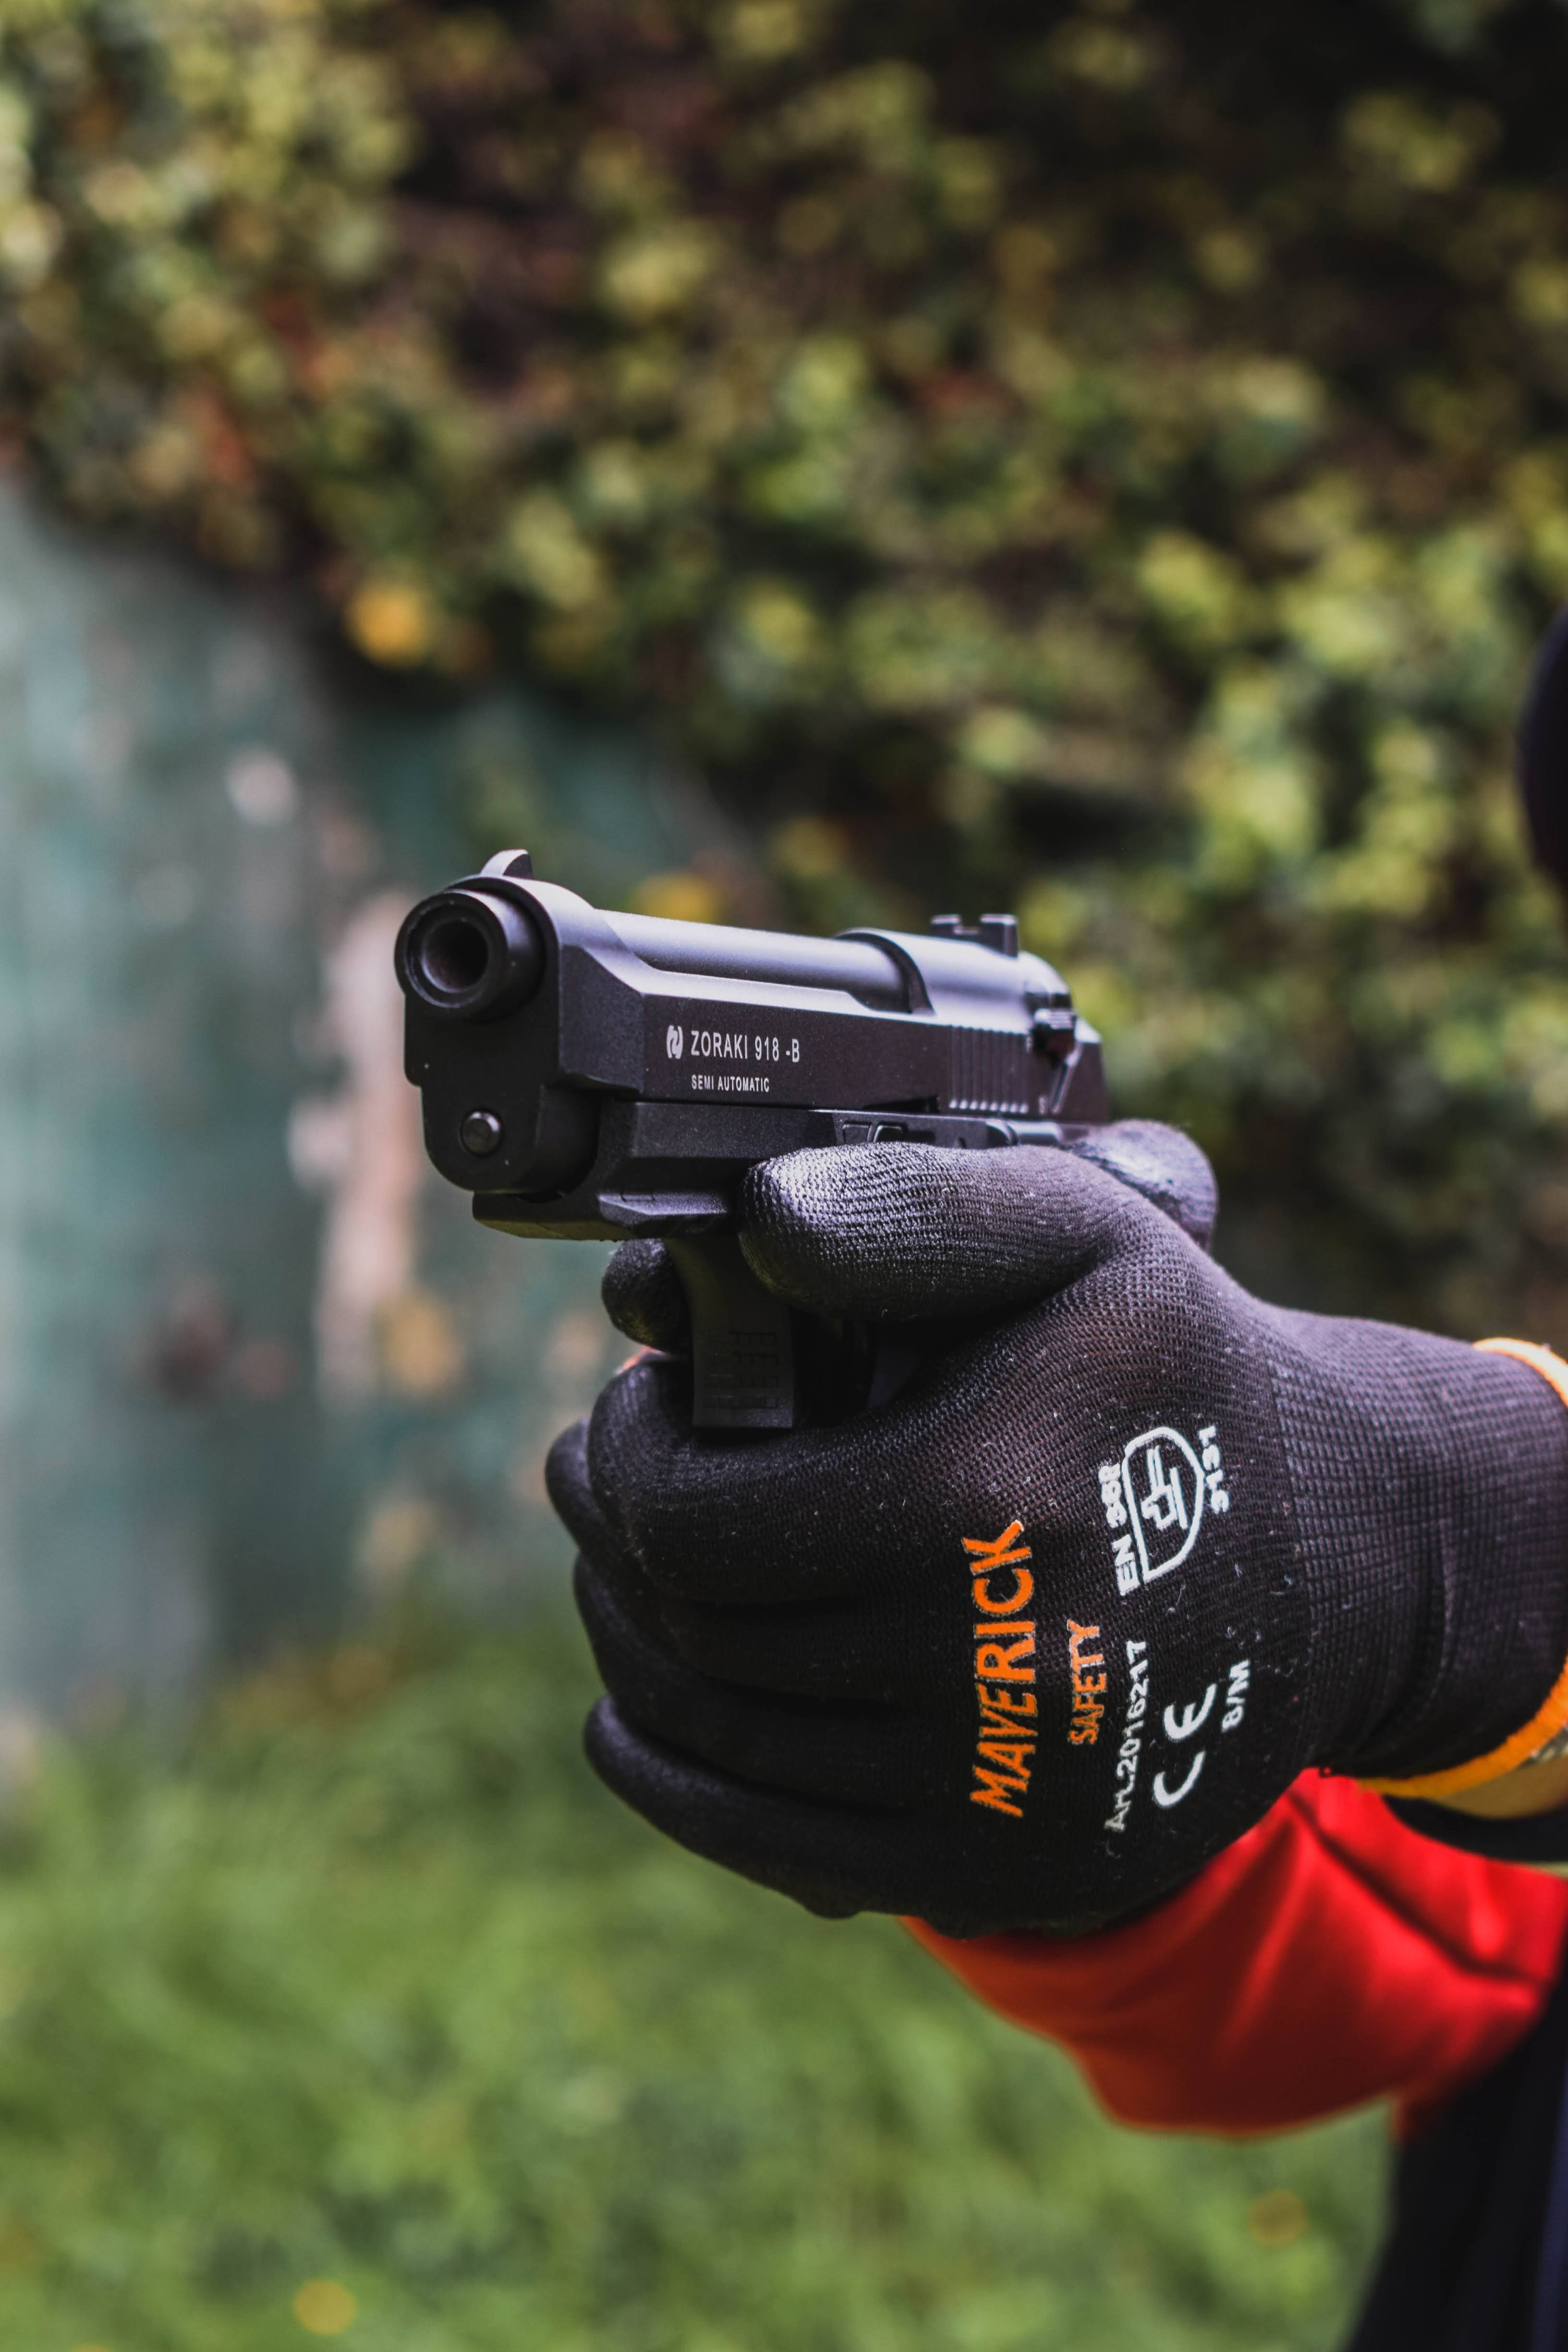gun: (366, 794, 1253, 1438)
